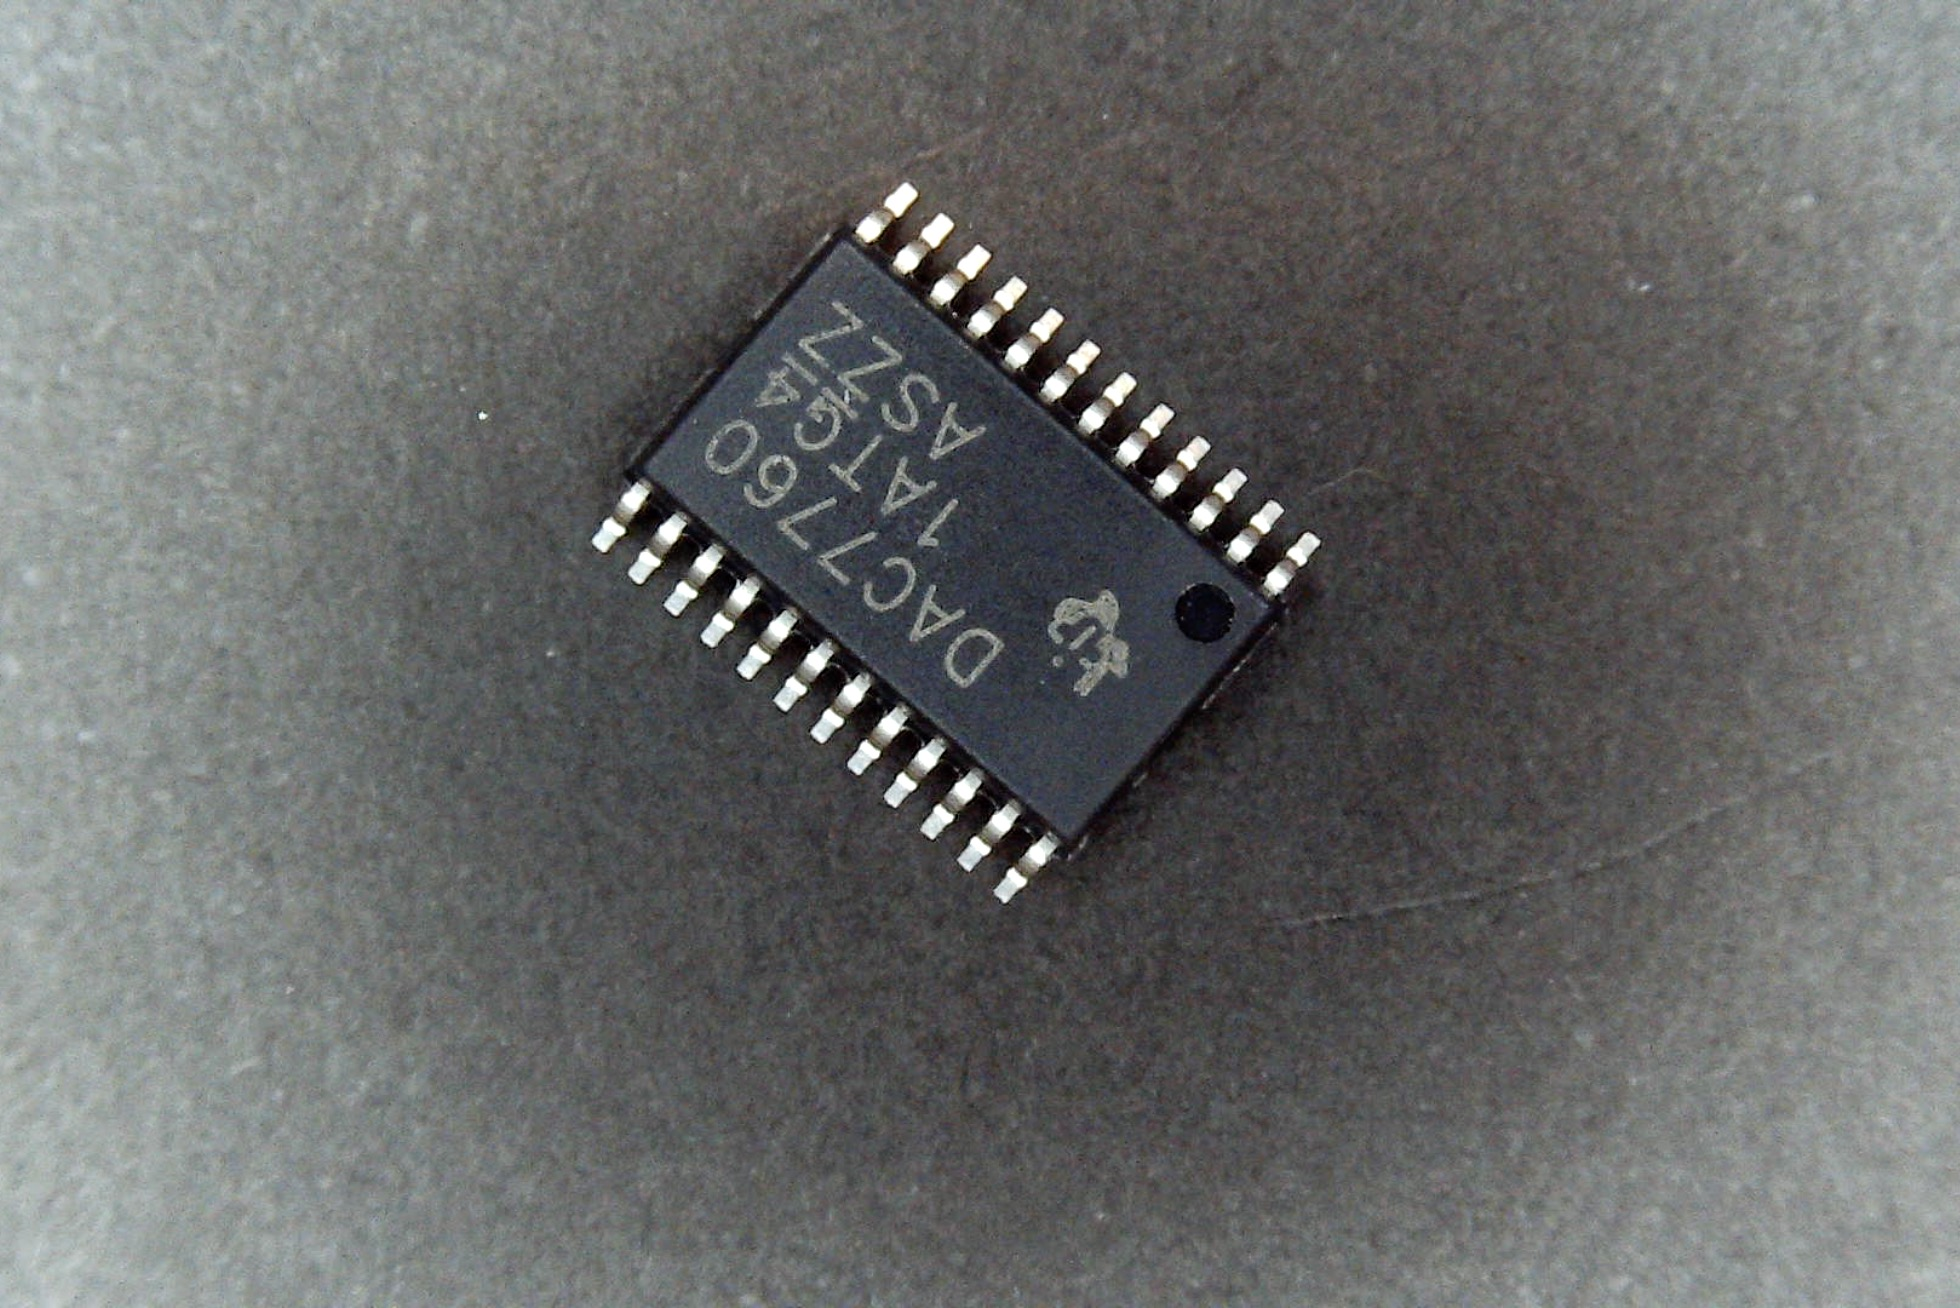bbox: (590, 180, 1322, 908)
